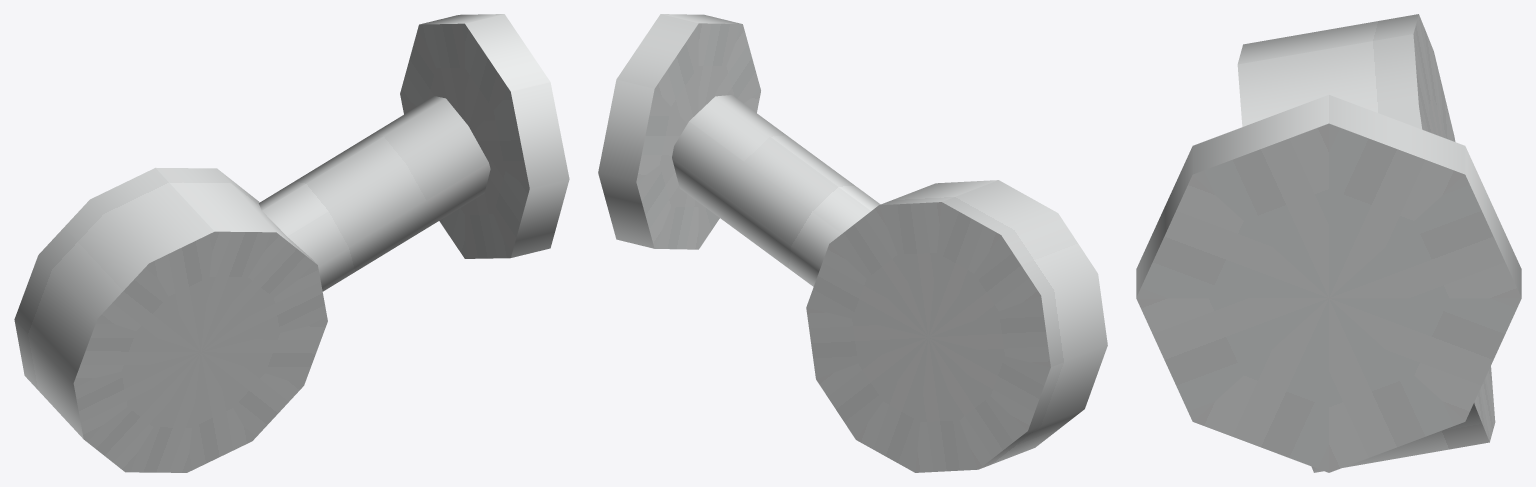
File: nycsignalarm_stub_45.obj
3 views of the same model, side by side, from view 1: azimuth 30°, elevation 25°; view 2: azimuth 150°, elevation 25°; view 3: azimuth 270°, elevation 25° (orthographic). The views are drawn at different scales.
Parts seen in each view (by area): view 1: nycsignalarm_stub_45; view 2: nycsignalarm_stub_45; view 3: nycsignalarm_stub_45.
Boxes of the visible parts, x1,y1,x2,y2 form: nycsignalarm_stub_45: (14, 14, 569, 472); nycsignalarm_stub_45: (598, 14, 1107, 472); nycsignalarm_stub_45: (1136, 14, 1521, 472).
Size of the model in its own units: 0.6974 by 0.5627 by 0.35.
